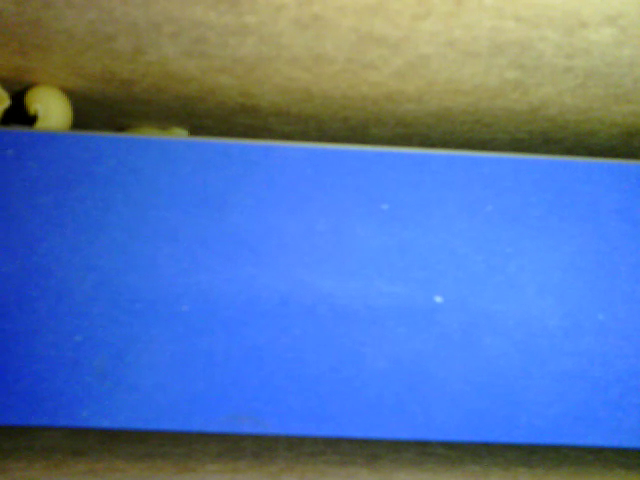shell: (23, 82, 73, 132)
